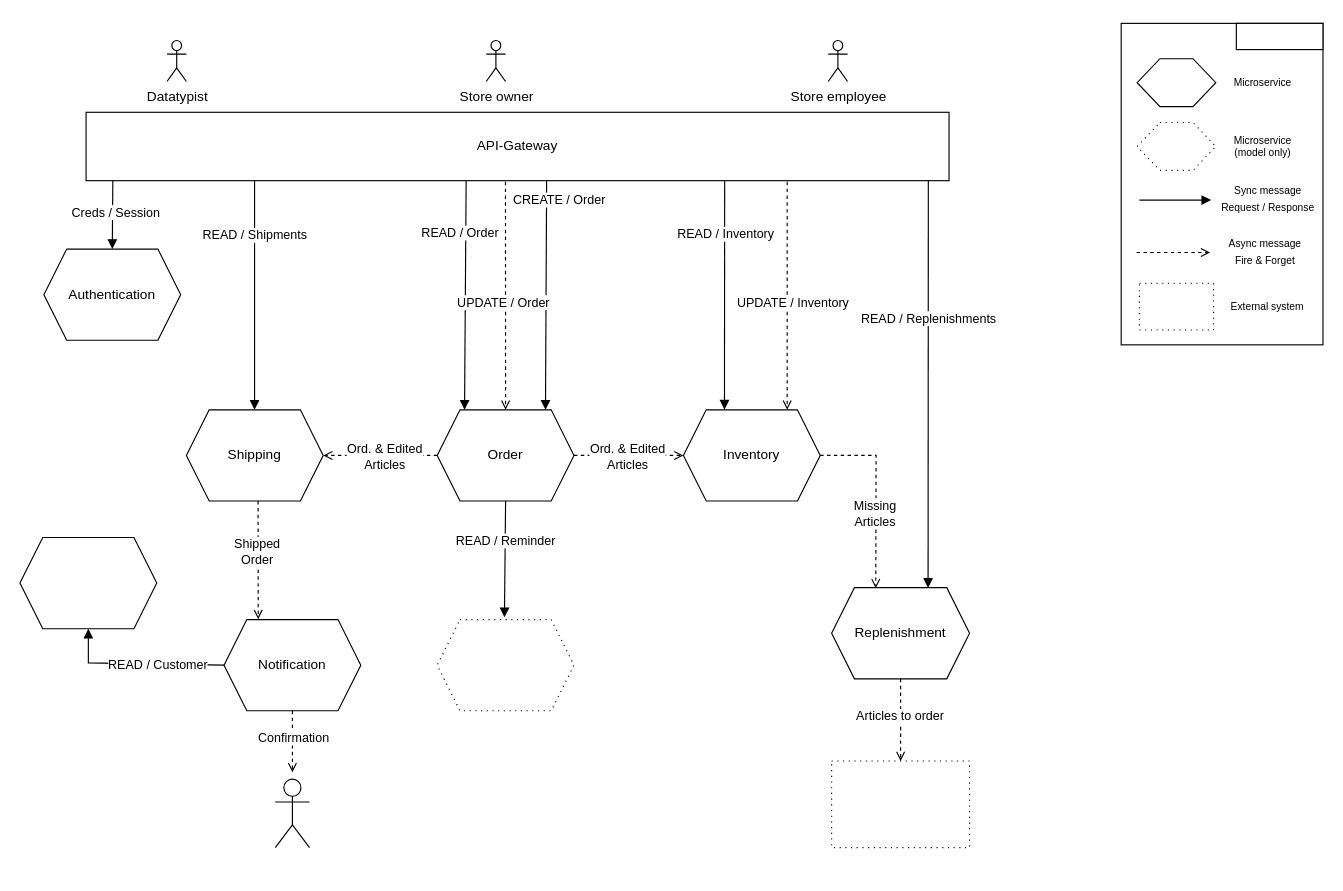
This 1343x891 diagram has some shape labels left out. Each missing label, with the centre of its shape:
"Accounting" goes at pixel 505 664.
"Central distribution center" goes at pixel 900 804.
"Client" goes at pixel 292 813.
"Customer" goes at pixel 88 582.
"Notation" goes at pixel 1279 36.
